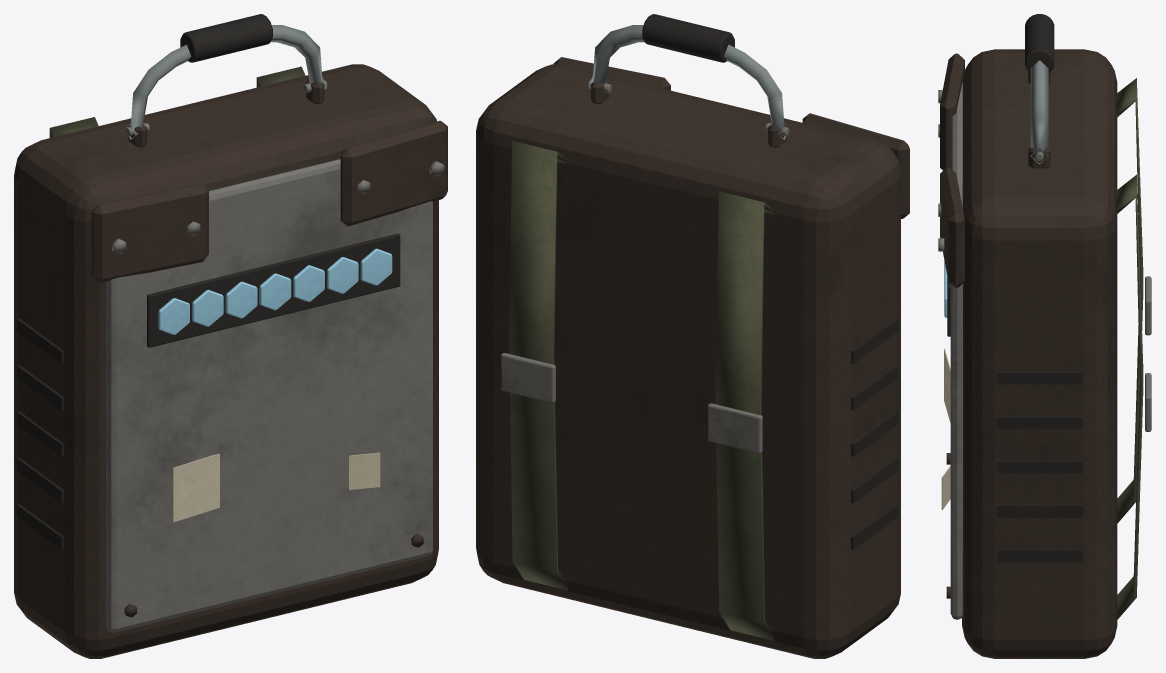
The model's file is prop_shield_heavy_01.gltf.
3 renders of one model, left to right at view 1: azimuth 30°, elevation 25°; view 2: azimuth 150°, elevation 25°; view 3: azimuth 270°, elevation 25°, orthographic. The views are drawn at different scales.
Visible parts, largest first — view 1: prop_shield_heavy_01_item_atlas_01; view 2: prop_shield_heavy_01_item_atlas_01; view 3: prop_shield_heavy_01_item_atlas_01.
Part boxes in pixels (left/top/right/bottom): prop_shield_heavy_01_item_atlas_01: left=14, top=14, right=447, bottom=658; prop_shield_heavy_01_item_atlas_01: left=476, top=14, right=909, bottom=658; prop_shield_heavy_01_item_atlas_01: left=938, top=14, right=1151, bottom=658.
Bounding box in the file's own units: 0.2536 × 0.373 × 0.1305.
1 material, 1 textured.
